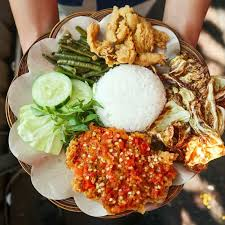ayam_geprek: (40, 40, 225, 189)
